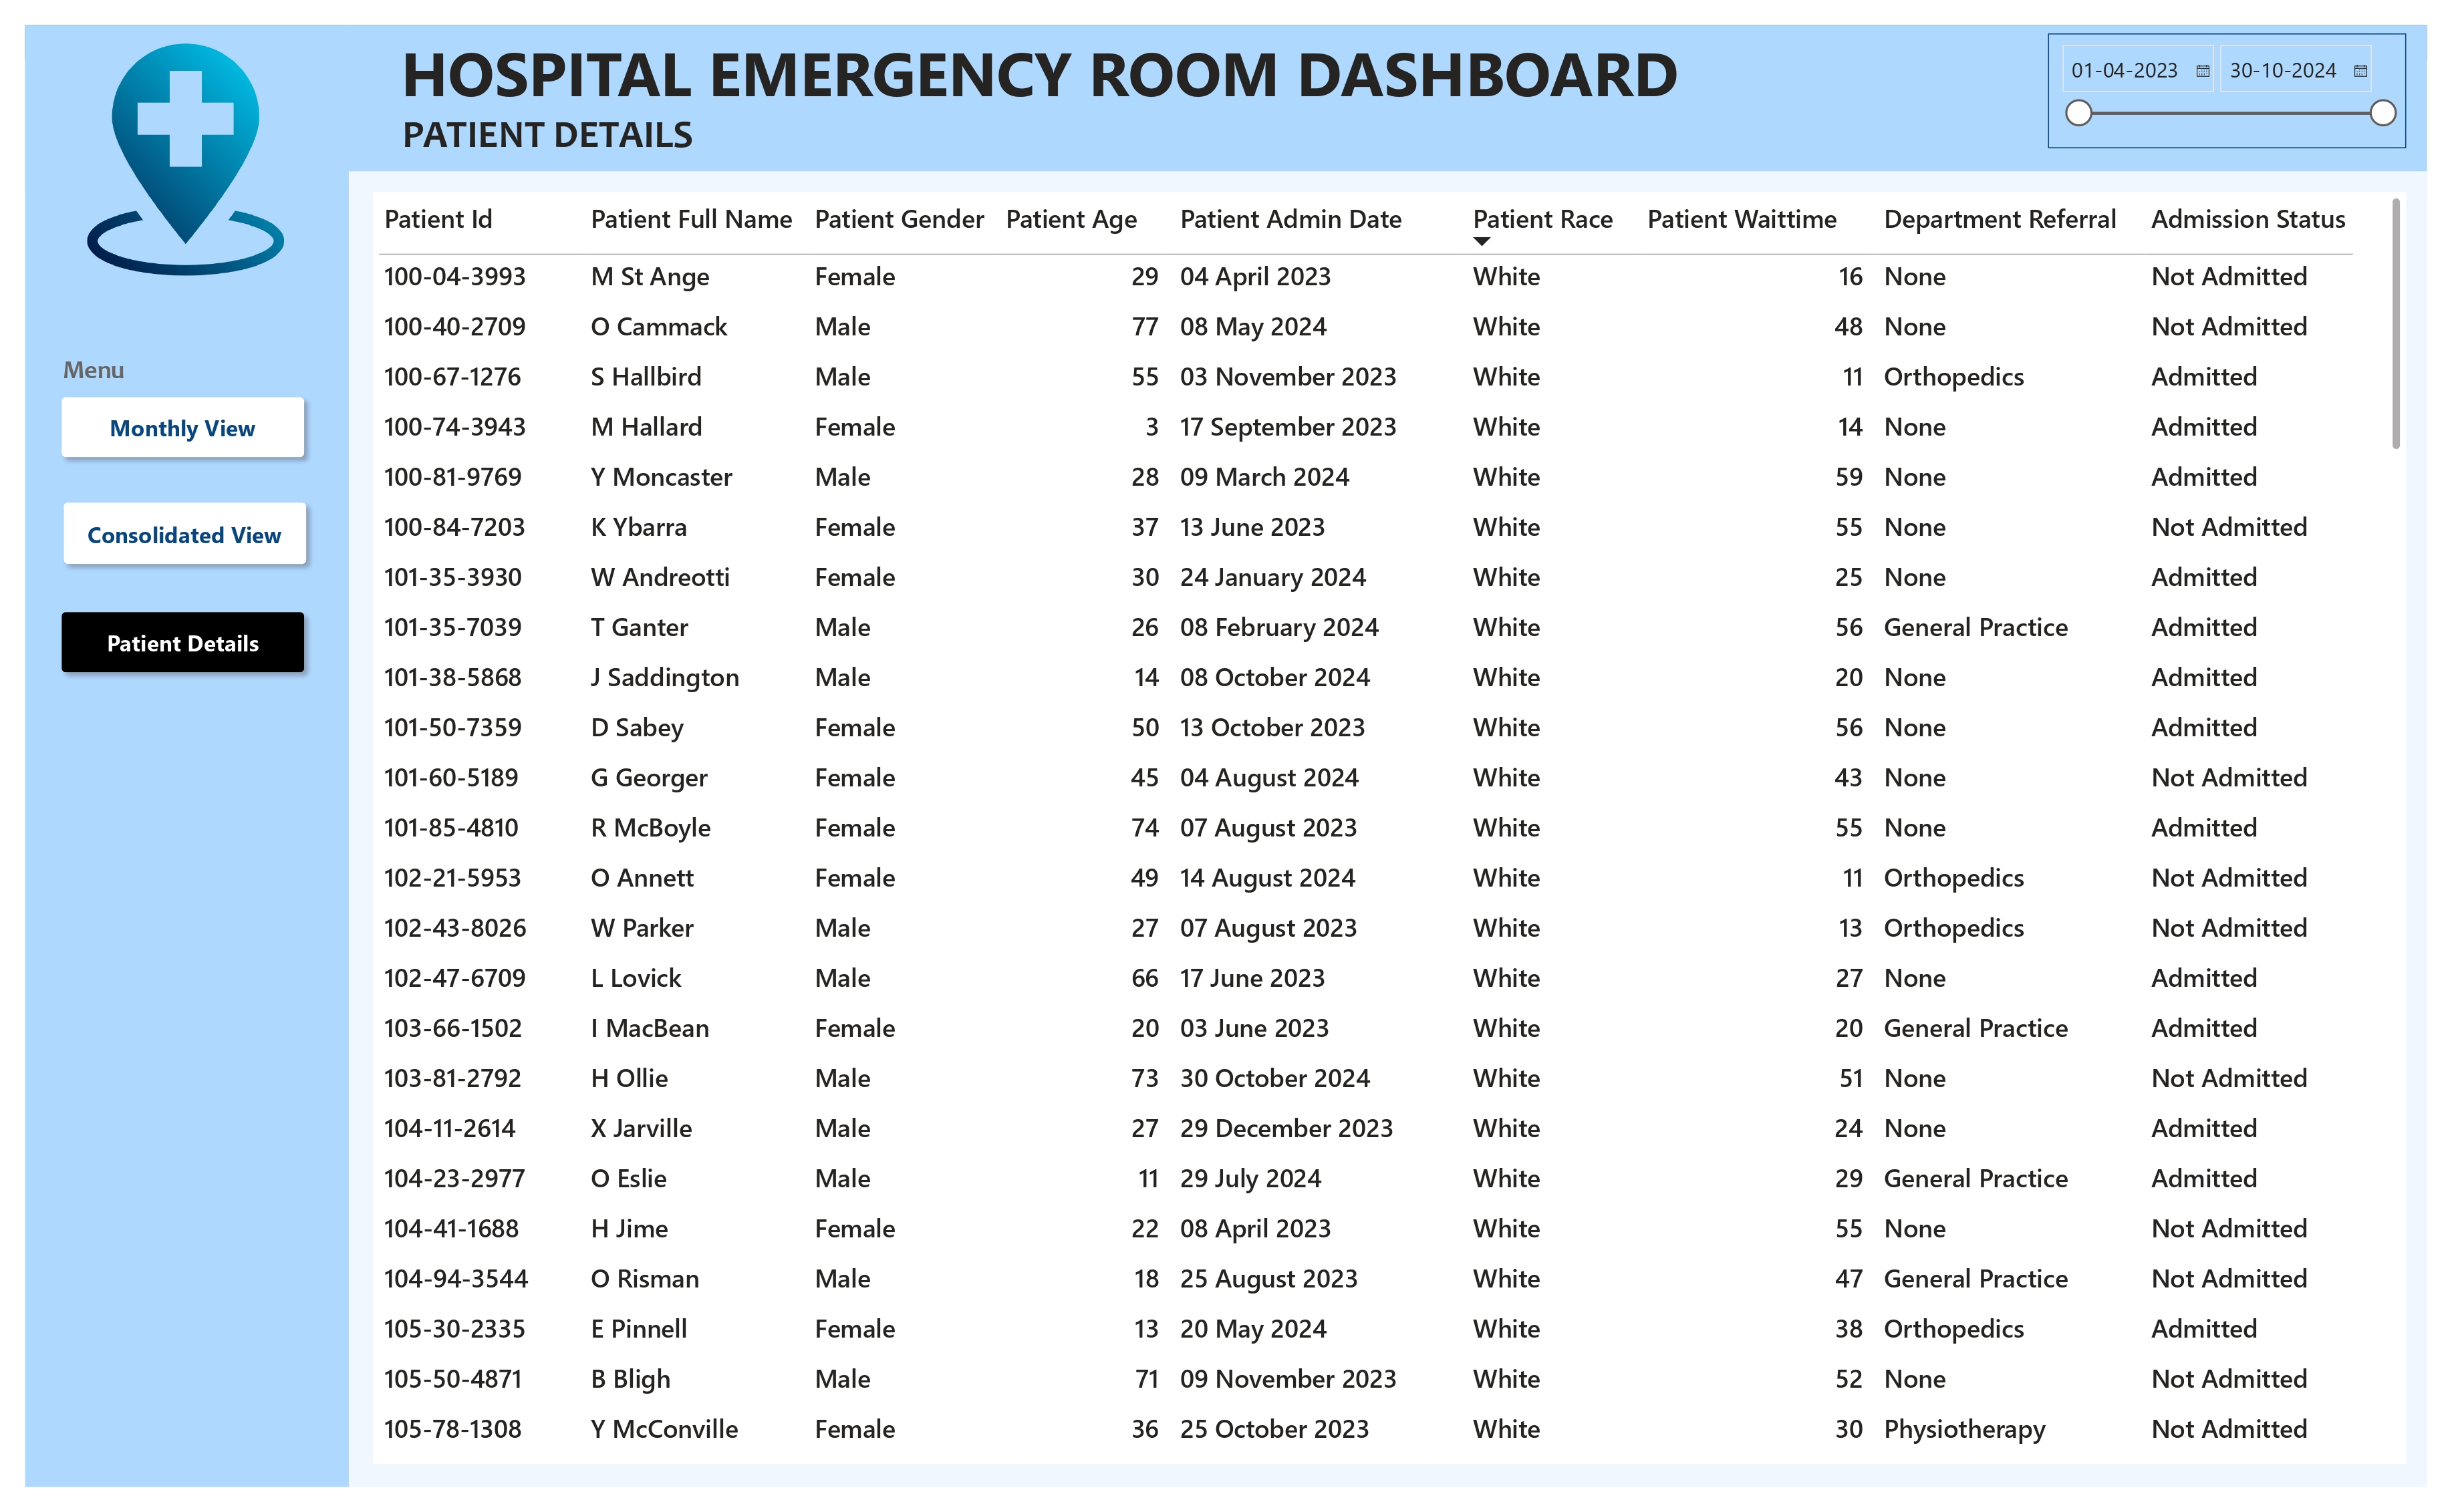

The dashboard page shown, as its layout file describes it:
{"tool":"powerbi","page":{"name":"Patient Details","canvas":[2300,1400],"ordinal":2},"visuals":[{"type":"shape","box":[0,0,310,1400],"z":0},{"type":"shape","box":[310,0,1990,140],"z":1000},{"type":"textbox","box":[355,0,1250,140],"z":2000},{"type":"textbox","box":[356,76,340,64],"z":3000},{"type":"image","box":[42,16.7,223.3,223.3],"z":4000},{"type":"actionButton","box":[26,346.7,250,76.7],"z":5000},{"type":"actionButton","box":[28,448.3,250,76.7],"z":6000},{"type":"actionButton","box":[26,553.3,250,76],"z":7000},{"type":"tableEx","fields":{"Values":["Hospital ER_Data.Patient Id","Hospital ER_Data.Patient Full Name","Hospital ER_Data.Patient Gender","Hospital ER_Data.Patient Age","Hospital ER_Data.Patient Admin Date","Hospital ER_Data.Patient Race","Hospital ER_Data.Patient Waittime","Hospital ER_Data.Department Referral","Hospital ER_Data.Admission Status"]},"box":[332.5,160,1947.5,1217.5],"z":8000},{"type":"slicer","fields":{"Values":["Date Table.Date"]},"box":[1936.7,8.3,343.3,110],"z":9000},{"type":"textbox","box":[26,310,163,40],"z":10000}]}

Visuals, with their boxes on the page's 2300x1400 design canvas (x1, y1, x2, y2). These are canvas units, not pixel positions in the 2452x1512 screenshot, which may show the page scaled, cropped or inside an application window:
shape: [0, 0, 310, 1400]
shape: [310, 0, 2300, 140]
textbox: [355, 0, 1605, 140]
textbox: [356, 76, 696, 140]
image: [42, 17, 265, 240]
actionButton: [26, 347, 276, 423]
actionButton: [28, 448, 278, 525]
actionButton: [26, 553, 276, 629]
tableEx - Hospital ER_Data.Patient Id x Hospital ER_Data.Patient Full Name: [332, 160, 2280, 1378]
slicer - Date Table.Date: [1937, 8, 2280, 118]
textbox: [26, 310, 189, 350]
